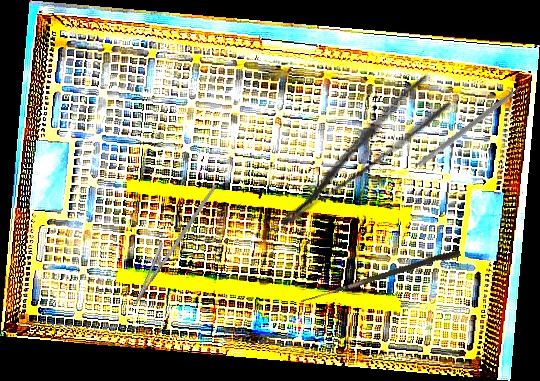Dressing Forceps: (257, 71, 455, 233)
Hook Surgical: (300, 246, 462, 310)
Needle Holder: (124, 171, 218, 313)
Spatula Surgical: (416, 79, 532, 173)
